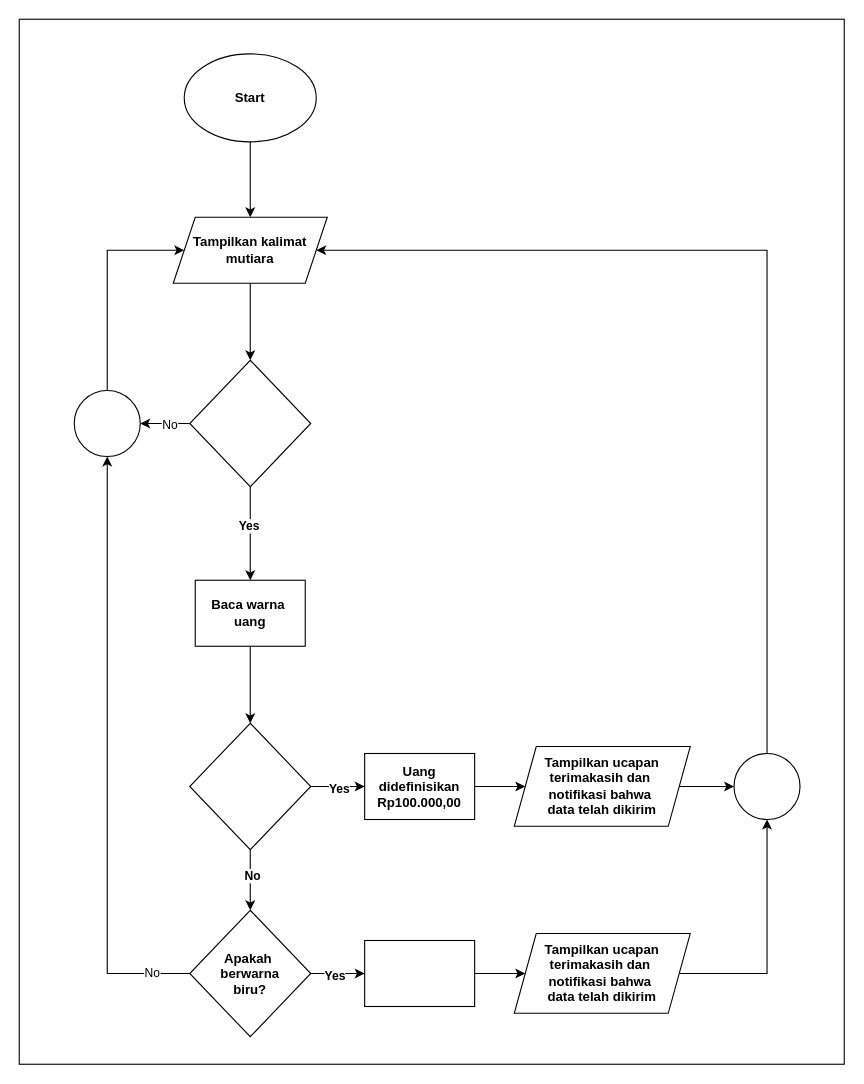
The diagram is 864 pixels wide and 1084 high, and some of its shapes have lost their labels. The box of each missing label's shape, as (x1, y1, x2, y2) in pixels:
Apakah ada uang masuk?: (189, 359, 311, 487)
Apakah berwarna merah?: (189, 722, 311, 850)
Uang didefinisikan Rp50.000,00: (364, 939, 475, 1007)
